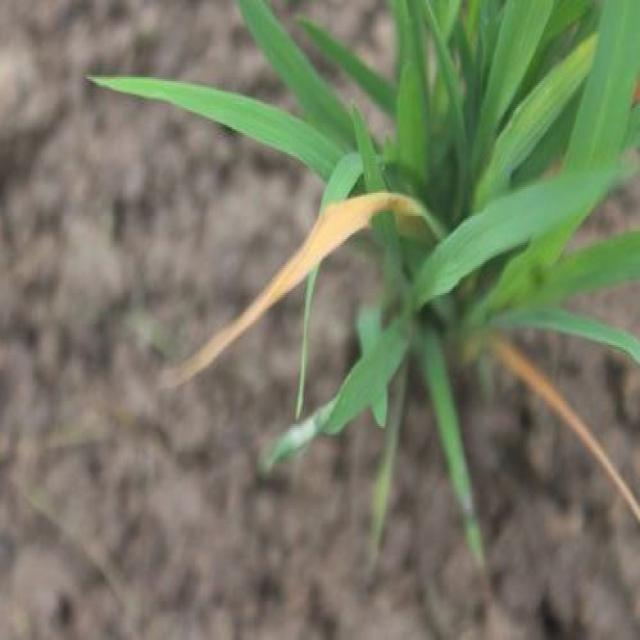Tungro: (178, 174, 429, 395), (498, 334, 640, 548)
